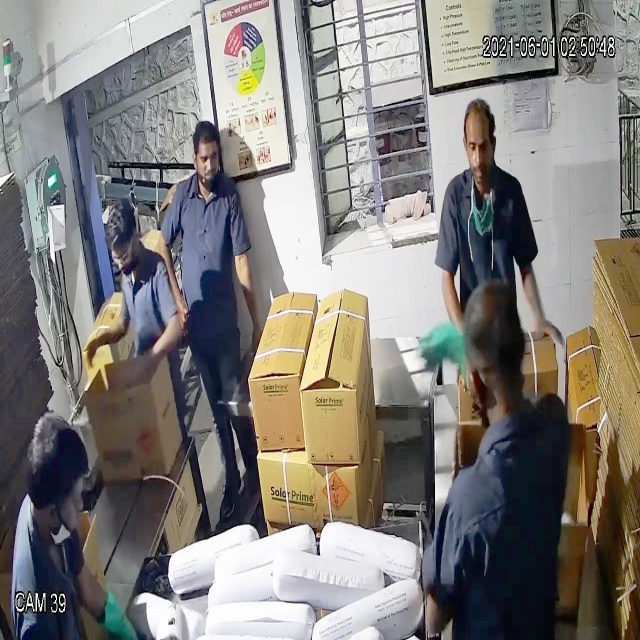Gafas: (105, 235, 142, 275)
Sin_gafas: (455, 128, 503, 167), (187, 142, 226, 174)
